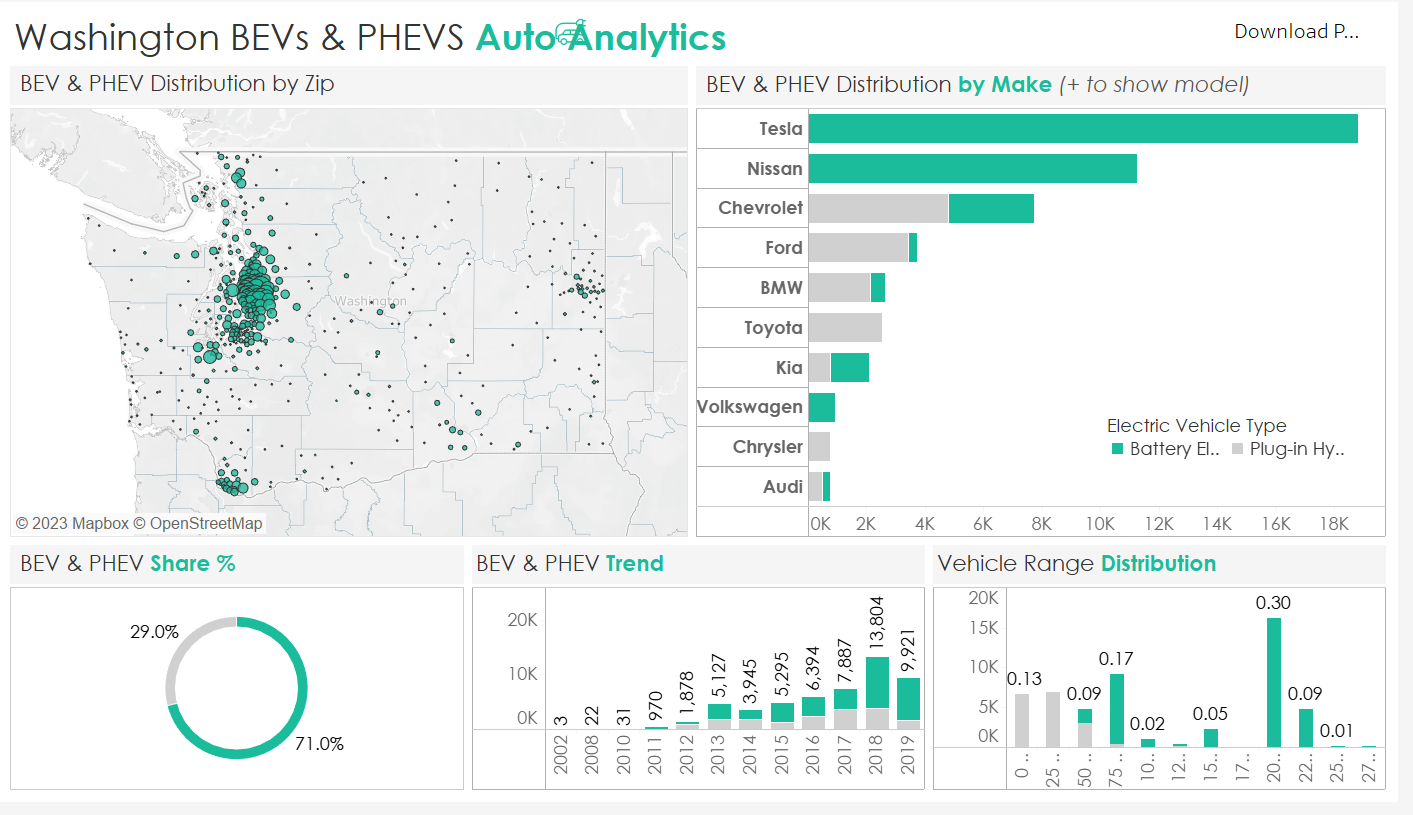

This screenshot's page, from the dashboard's own definition file:
{"tool":"tableau","page":{"name":"Washington BEVs & PHEVS","canvas":[1400,800],"ordinal":0},"visuals":[{"type":"title","box":[8,8,1384,41]},{"type":"image","param":"Image/icons8-electric-vehicle-500.png","box":[557,14,44,31]},{"type":"dashboard-object","box":[1233,18,134,21]},{"type":"worksheet","title":"Map","mark":"Pie","box":[8,49,686,486.2]},{"type":"worksheet","title":"Make","mark":"Automatic","rows":["Make"],"cols":["Number of Records"],"box":[694,49,698,486.2]},{"type":"legend","title":"Type","param":"[federated.16r35hj1xshhm21eelh5r1yjfxl0].[none:Electric Vehicle Type:nk]","box":[1109,413,276,58]},{"type":"worksheet","title":"Type","mark":"Pie","rows":["Number of Records","Number of Records"],"box":[8,535,462,257]},{"type":"worksheet","title":"Year","mark":"Automatic","rows":["Number of Records","Number of Records"],"cols":["Model Year"],"box":[470,535,461,257]},{"type":"worksheet","title":"Range","mark":"Automatic","rows":["Number of Records","Number of Records"],"cols":["Electric Range (bin)"],"box":[931,535,461,257]}]}

Visuals, with their boxes in screenshot pixels (x1, y1, x2, y2), scaled from the page's 1400x800 canvas onto the 1413x815 screenshot:
title: [left=8, top=8, right=1405, bottom=50]
image: [left=562, top=14, right=607, bottom=46]
dashboard-object: [left=1244, top=18, right=1380, bottom=40]
"Map" worksheet (Pie marks): [left=8, top=50, right=700, bottom=545]
"Make" worksheet: [left=700, top=50, right=1405, bottom=545]
"Type" legend: [left=1119, top=421, right=1398, bottom=480]
"Type" worksheet (Pie marks): [left=8, top=545, right=474, bottom=807]
"Year" worksheet: [left=474, top=545, right=940, bottom=807]
"Range" worksheet: [left=940, top=545, right=1405, bottom=807]
